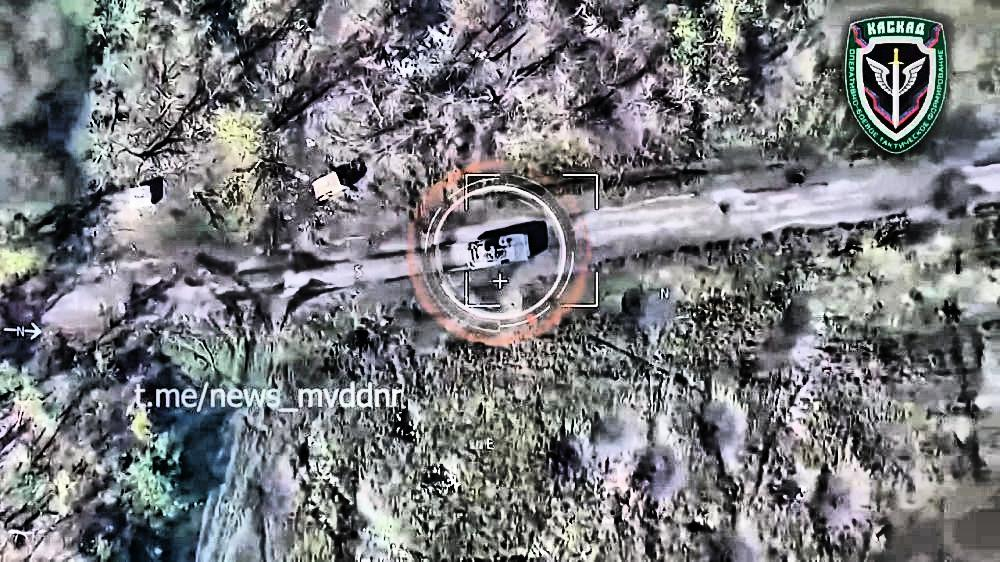military-vehicle: (465, 232, 531, 268)
